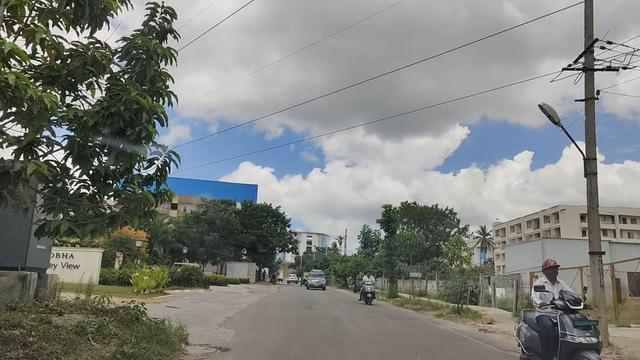RoadDamages: (211, 306, 275, 343), (185, 337, 248, 360), (305, 299, 353, 328)
